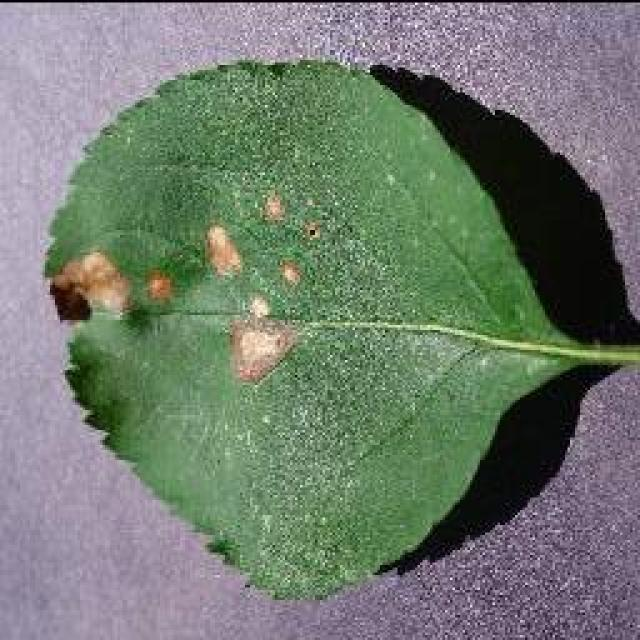apple black rot: (40, 55, 638, 600)
